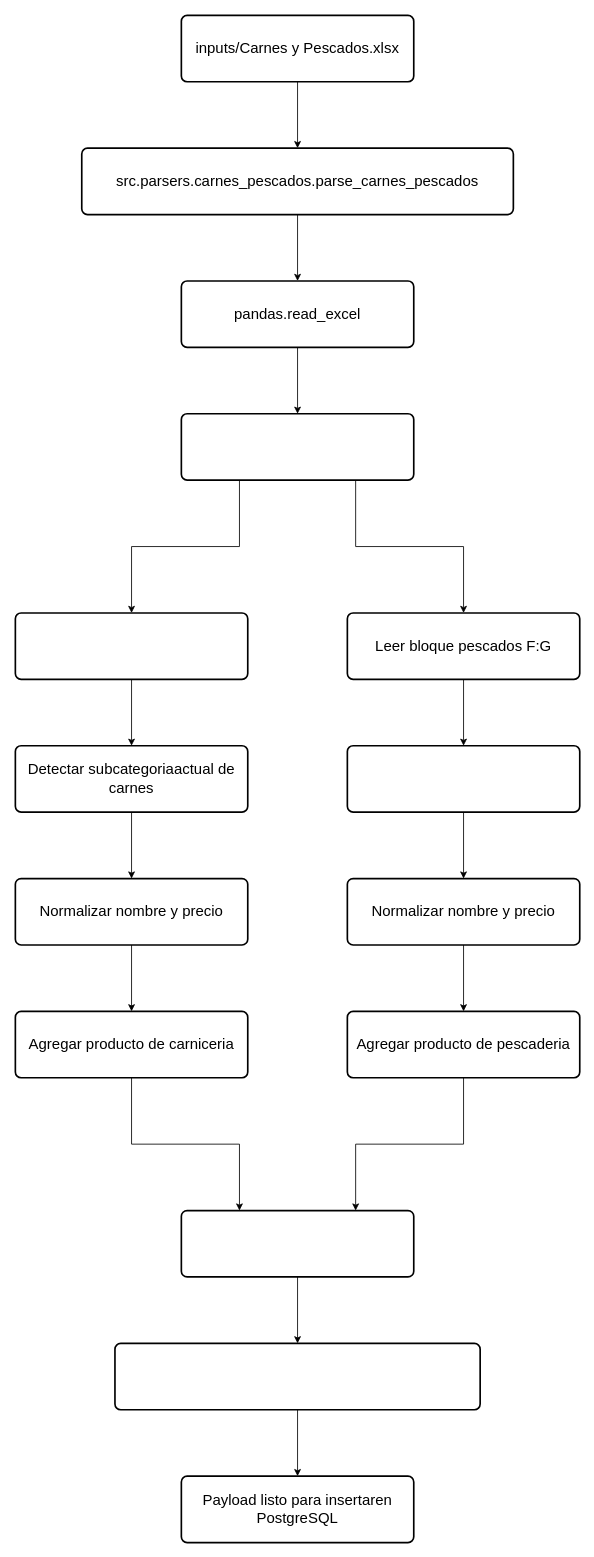
The diagram is 594 pixels wide and 1557 high, and some of its shapes have lost their labels. Here are the shapes that lost their labels. From the top down, the centre of each, then its label:
At pixel 297 447: "Iterar filas del archivo".
At pixel 131 646: "Leer bloque carnes C:D".
At pixel 463 779: "Asignar subcategoria General".
At pixel 297 1243: "Lista final de productosnormalizados".
At pixel 297 1376: "src.ingest.carnes_pescados.build_product_payload".
